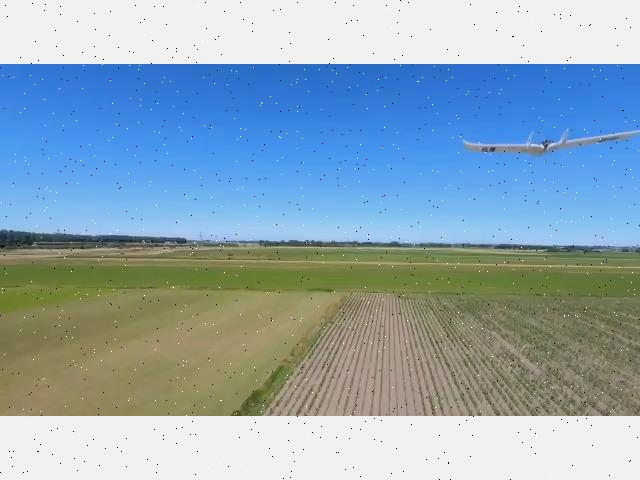Anti-Drone: (450, 115, 640, 176)
